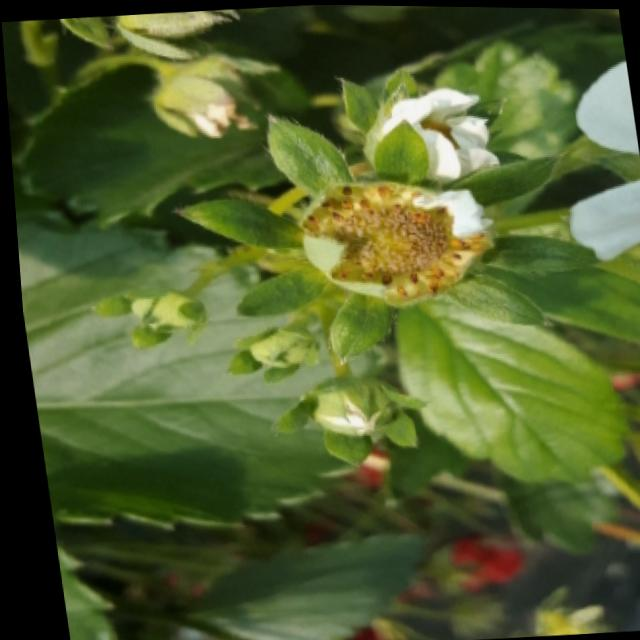Blossom Blight: (300, 174, 485, 304)
